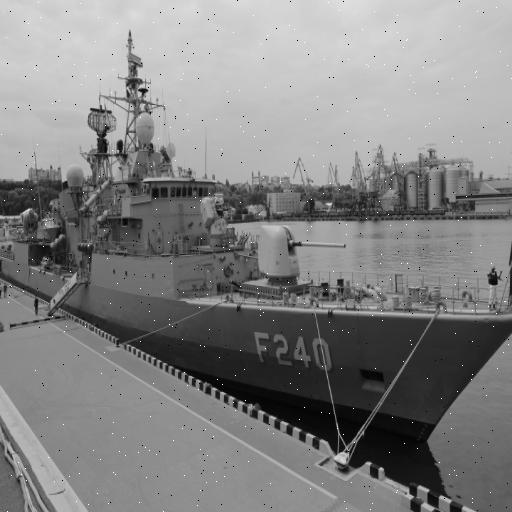Fragata: (1, 23, 512, 459)
